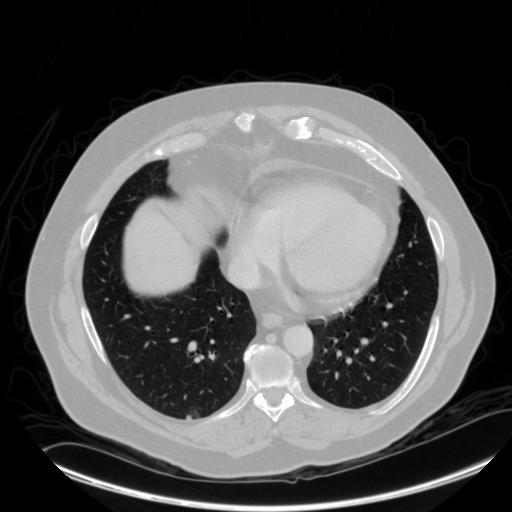nodule: (184, 412, 194, 422)
